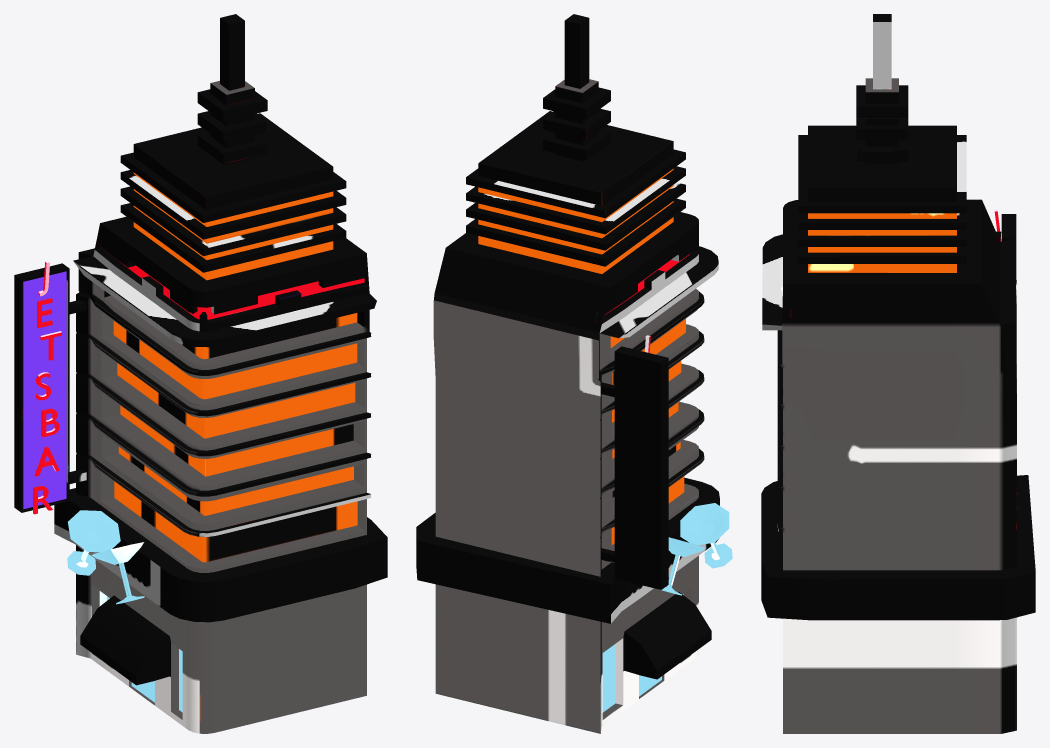
Rendered from Building 1.fbx.
3 views of the same model, side by side, from view 1: azimuth 30°, elevation 25°; view 2: azimuth 150°, elevation 25°; view 3: azimuth 270°, elevation 25° (orthographic). The views are drawn at different scales.
Visible parts, largest first — view 1: Cube.012; view 2: Cube.012; view 3: Cube.012.
Boxes of the visible parts, left/top/right/bottom form: Cube.012: left=14, top=14, right=387, bottom=733; Cube.012: left=416, top=14, right=732, bottom=733; Cube.012: left=761, top=14, right=1035, bottom=733.
Bounding box in the file's own units: 1820 × 4486 × 1657.
